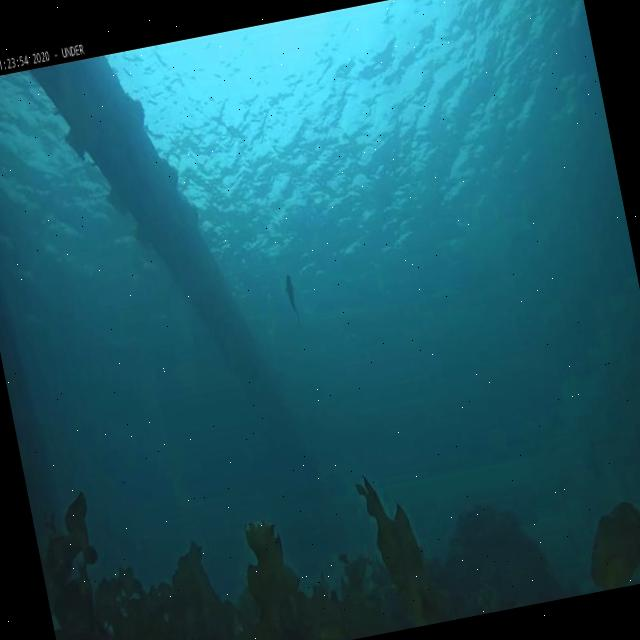fish: (282, 274, 301, 320)
